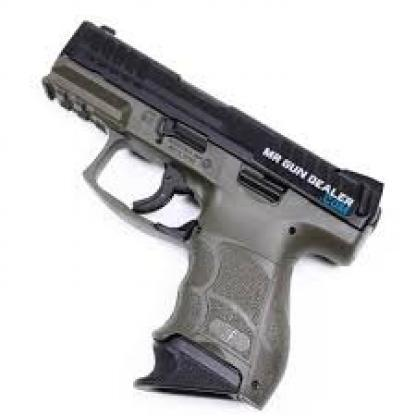Pistol: (37, 19, 382, 409)
